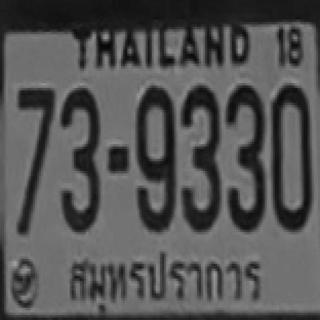N00: (271, 82, 310, 228)
N03: (224, 83, 264, 230), (59, 88, 100, 230), (180, 86, 220, 230), (224, 100, 264, 230)
N07: (16, 86, 53, 196), (16, 87, 53, 184)
N09: (135, 88, 174, 230), (135, 110, 174, 230)
P57: (61, 240, 266, 313)
